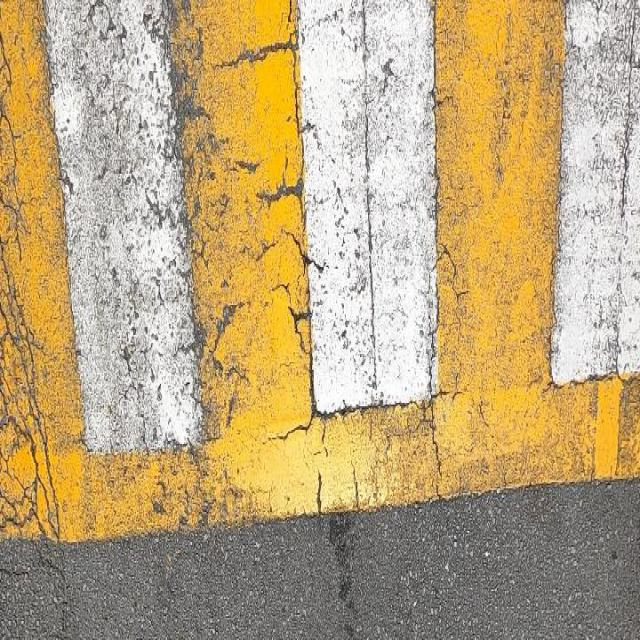cracks: (161, 0, 353, 640), (418, 1, 500, 640), (0, 0, 57, 640)
